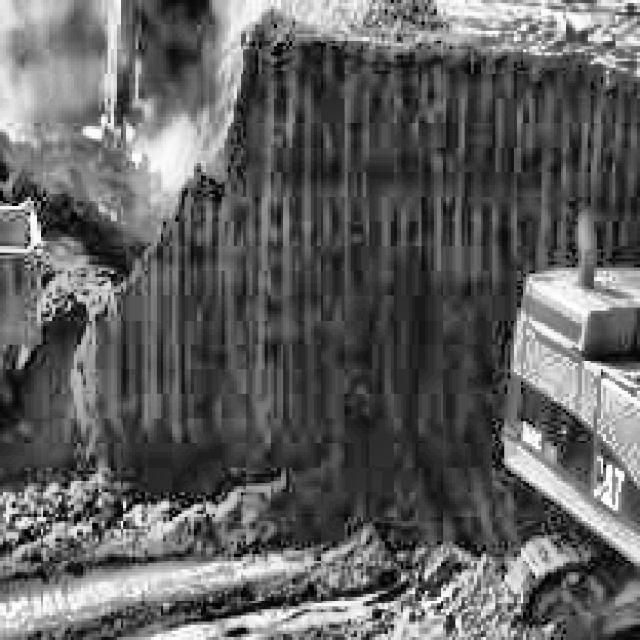excavator: (492, 178, 640, 640), (0, 0, 175, 175)
